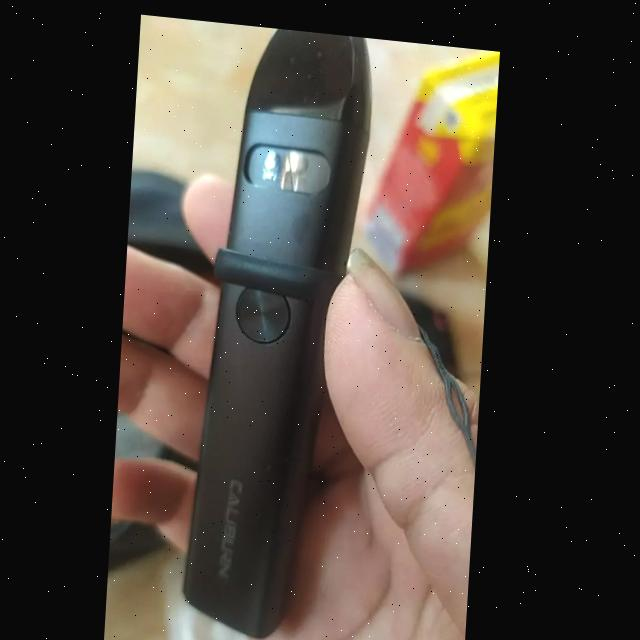vape: (187, 18, 376, 640)
